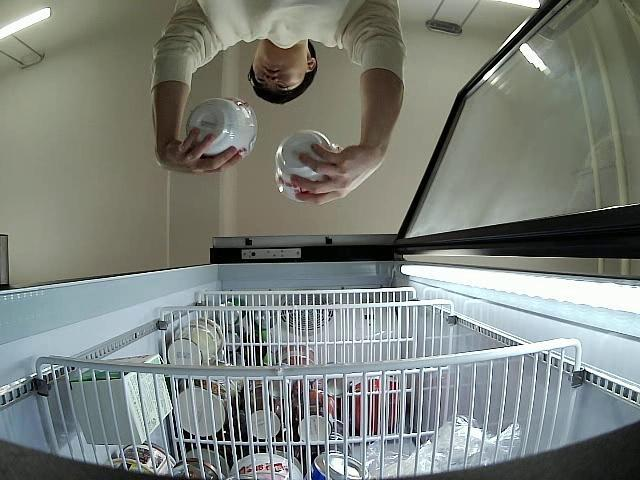09_yukGaeJang: (275, 130, 346, 205), (186, 96, 256, 158)
